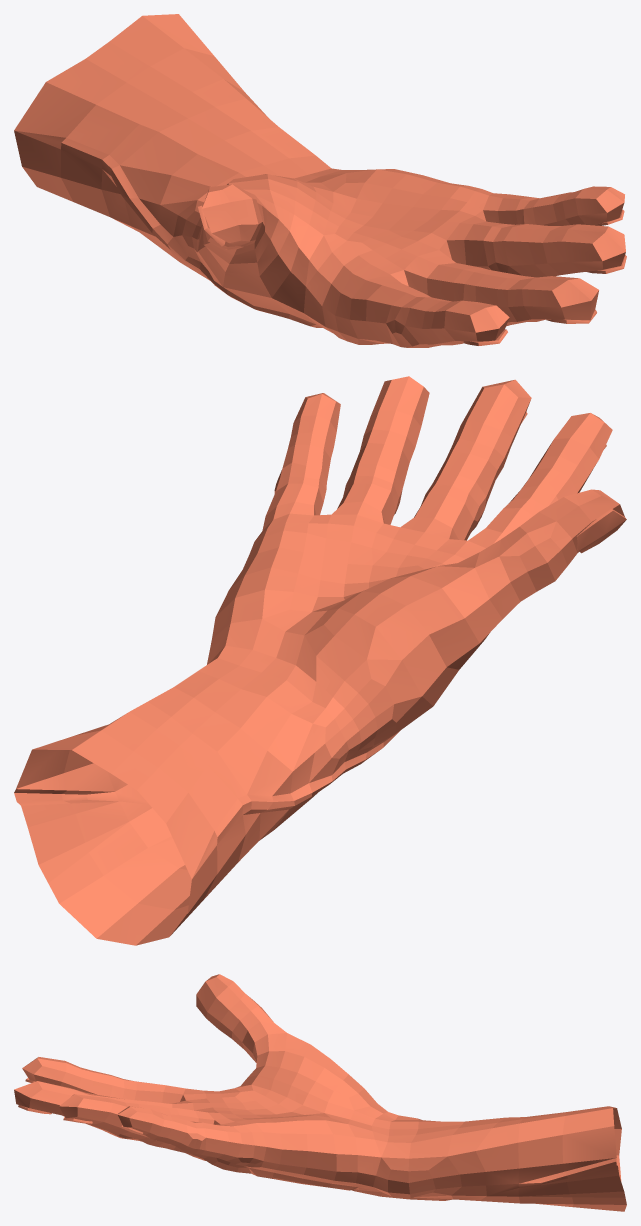
Rendered from 5_7_HandPolygonalRighFront.obj.
3 renders of one model, top to bottom at view 1: azimuth 30°, elevation 25°; view 2: azimuth 150°, elevation 25°; view 3: azimuth 270°, elevation 25°, orthographic. The views are drawn at different scales.
Parts seen in each view (by area): view 1: polySurface920.007; view 2: polySurface920.007; view 3: polySurface920.007.
Part boxes in pixels (<box>): polySurface920.007: <box>14,14,626,347</box>; polySurface920.007: <box>14,376,626,945</box>; polySurface920.007: <box>14,974,626,1211</box>.
Bounding box in the file's own units: 0.0873 × 0.0587 × 0.1856.
